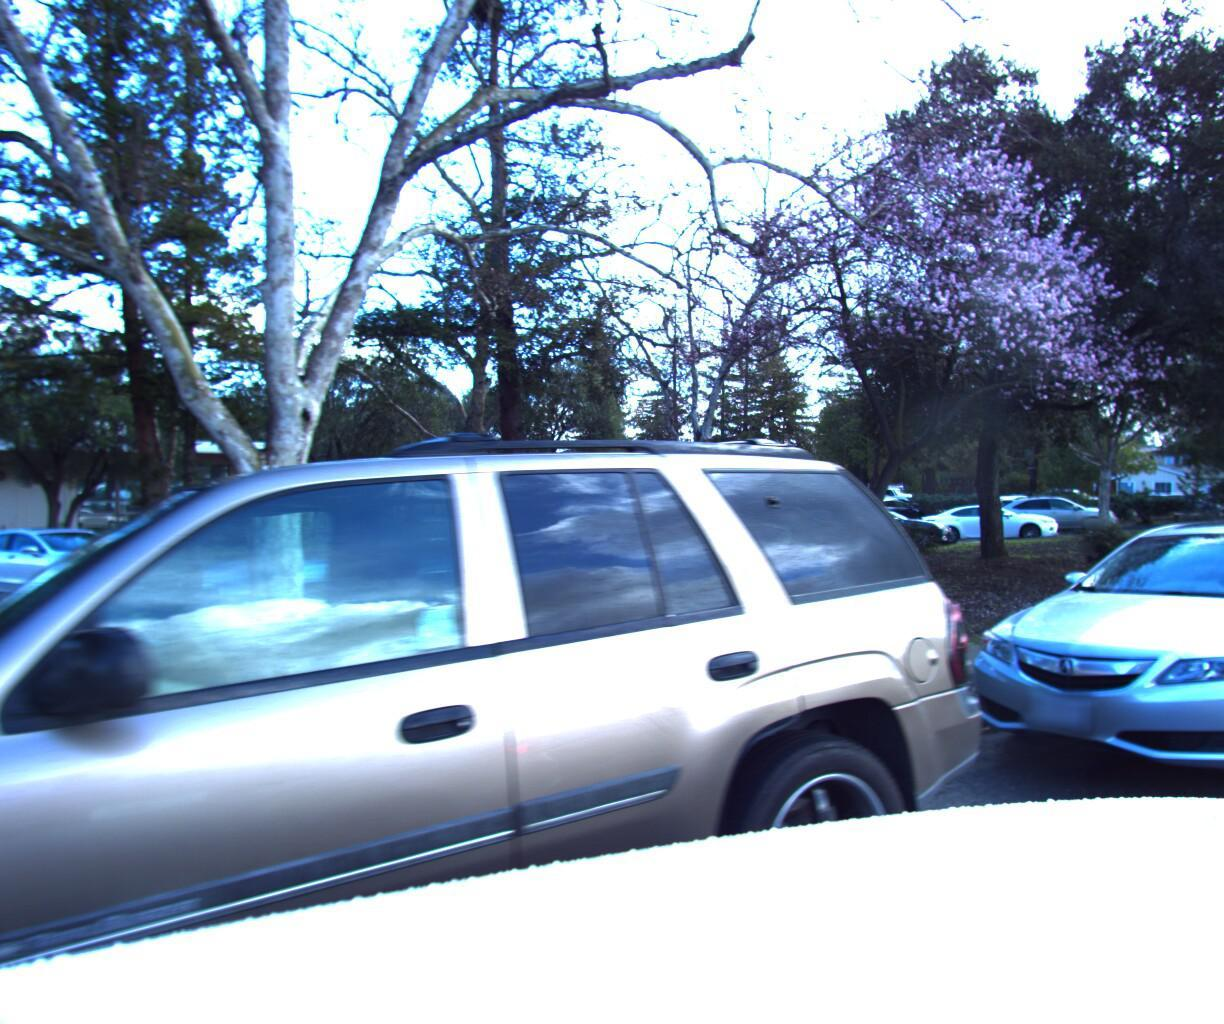car: (0, 235, 1041, 1024), (920, 507, 1224, 863), (843, 486, 922, 513)
